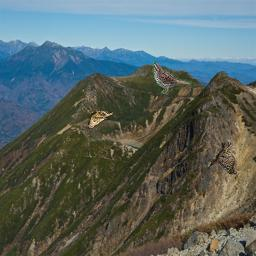Sparrow: (152, 61, 192, 94), (208, 142, 240, 175), (88, 111, 113, 129)
